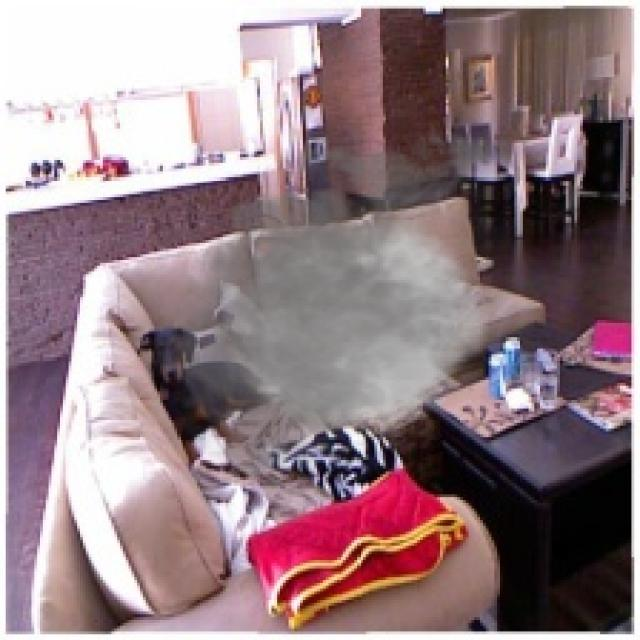smoke: (143, 120, 563, 489)
